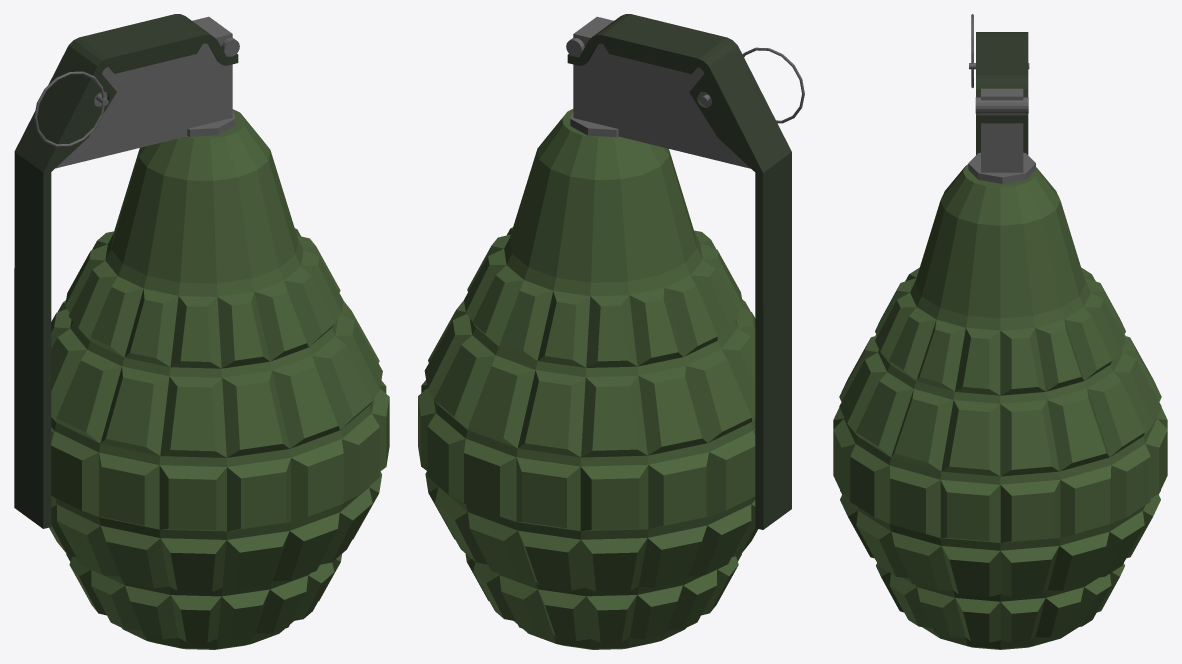
Rendered from Frag Grenade.fbx.
The picture shows the model from 3 angles, left to right: view 1: azimuth 30°, elevation 25°; view 2: azimuth 150°, elevation 25°; view 3: azimuth 270°, elevation 25°; orthographic projection. The views are drawn at different scales.
Visible parts, largest first — view 1: Grag Grenade, Frag - Handle, Frag - Top, Frag - Pin; view 2: Grag Grenade, Frag - Handle, Frag - Top; view 3: Grag Grenade, Frag - Top, Frag - Handle.
Boxes of the visible parts, left/top/right/bottom form: Grag Grenade: left=49, top=109, right=389, bottom=649; Frag - Handle: left=14, top=14, right=238, bottom=528; Frag - Top: left=55, top=16, right=239, bottom=168; Frag - Pin: left=34, top=71, right=108, bottom=146; Grag Grenade: left=418, top=109, right=758, bottom=649; Frag - Handle: left=567, top=14, right=791, bottom=529; Frag - Top: left=566, top=16, right=750, bottom=168; Grag Grenade: left=833, top=164, right=1167, bottom=649; Frag - Top: left=968, top=88, right=1035, bottom=183; Frag - Handle: left=976, top=32, right=1028, bottom=154.
Bounding box in the file's own units: 102 × 168 × 94.48.
